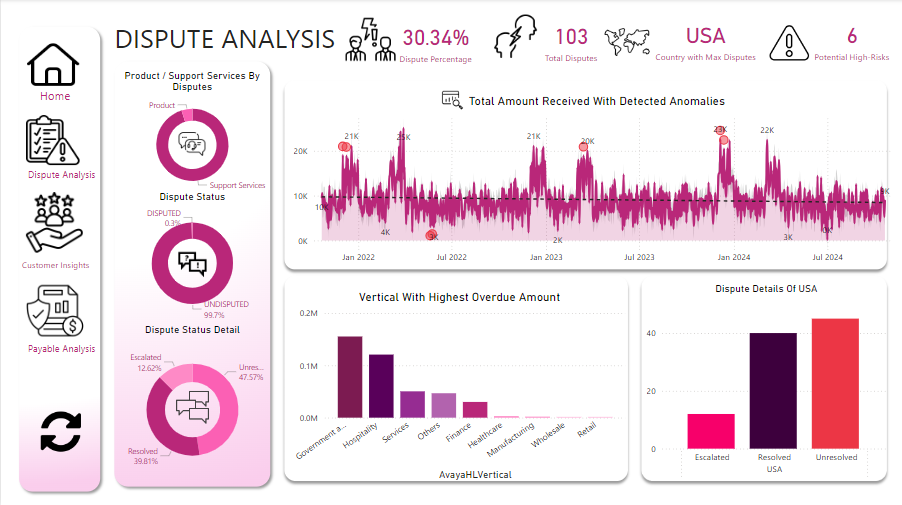

Layout of this report page (visuals, bound fields, positions):
{"tool":"powerbi","page":{"name":"Dispute Analysis","canvas":[1280,720],"ordinal":1},"visuals":[{"type":"donutChart","title":"Dispute Status","fields":{"Category":["AR.Dispute Status"],"Y":["CountNonNull(AR.Dispute Status)"]},"box":[162.8,271.9,216.5,188.8],"z":0},{"type":"donutChart","title":"Dispute Status Detail","fields":{"Category":["AR.Dispute Status Detail"],"Y":["CountNonNull(AR.Dispute Status Detail)"]},"box":[162.8,460.7,230.4,226.9],"z":1000},{"type":"lineChart","title":"Total Amount Received With Detected Anomalies","fields":{"Y":["Sum(AR_cashflow_forecasting_dataset.Amount Received)"],"Category":["AR_cashflow_forecasting_dataset.Invoice Date"]},"box":[409.6,134.6,870.2,249.4],"z":2000},{"type":"card","fields":{"Values":["CountNonNull(AR.Dispute Status)"]},"box":[729.2,0,159.4,117.8],"z":3000},{"type":"card","fields":{"Values":["AR.Country with Max Disputes"]},"box":[900.7,0,197.5,114.3],"z":4000},{"type":"clusteredColumnChart","title":"Dispute Details Of USA","fields":{"Category":["AR.Country","AR.Dispute Status Detail"],"Y":["CountNonNull(AR.Dispute Status Detail)"]},"box":[909.3,401.8,349.9,285.8],"z":5000},{"type":"card","fields":{"Values":["Sum(AR.High-Risk)"]},"box":[1132.8,0,147.2,114.3],"z":6000},{"type":"donutChart","title":"Product / Support Services By Disputes","fields":{"Category":["AR.Product / Support Services"],"Y":["CountNonNull(AR.Product / Support Services)"]},"box":[162.8,100.5,216.5,180.1],"z":7000},{"type":"card","fields":{"Values":["AR.Dispute Percentage"]},"box":[512.7,0,206.1,121.2],"z":8000},{"type":"clusteredColumnChart","title":"Vertical With Highest Overdue Amount","fields":{"Category":["AR.AvayaHLVertical"],"Y":["Sum(AR.REMAINING AMOUNT USD)"]},"box":[409.6,412.4,480.5,275],"z":9000},{"type":"textbox","box":[6.7,120.9,139.4,37],"z":14000},{"type":"textbox","box":[15.1,235.2,141.1,38.6],"z":15000},{"type":"textbox","box":[6.7,362.8,141.1,50.4],"z":16000},{"type":"textbox","box":[15.1,482.1,141.1,40.3],"z":17000},{"type":"image","box":[45.4,579.5,79,67.2],"z":18000},{"type":"textbox","box":[155.9,24.2,351.6,62.4],"z":19000},{"type":"image","box":[230.4,549.1,95.3,62.4],"z":20000},{"type":"image","box":[242.5,351.6,57.2,50.2],"z":21000},{"type":"image","box":[237.3,181.9,67.6,48.5],"z":22000},{"type":"image","box":[616.6,121.2,46.8,43.3],"z":23000},{"type":"image","box":[483.2,12.1,81.4,88.3],"z":24000},{"type":"image","box":[680.7,12.1,98.7,79.7],"z":25000},{"type":"image","box":[1084.3,24.2,65.8,76.2],"z":26000},{"type":"image","box":[850.4,17.3,74.5,88.3],"z":27000},{"type":"actionButton","box":[37,60.5,73.9,63.8],"z":27001},{"type":"actionButton","box":[35.3,164.6,75.6,70.6],"z":27002},{"type":"actionButton","box":[31.9,273.8,85.7,85.7],"z":27003},{"type":"actionButton","box":[35.3,401.5,82.3,80.6],"z":27004}]}

Visuals, with their boxes on the page's 1280x720 design canvas (x1, y1, x2, y2). These are canvas units, not pixel positions in the 902x505 screenshot, which may show the page scaled, cropped or inside an application window:
"Dispute Status" donutChart: [left=163, top=272, right=379, bottom=461]
"Dispute Status Detail" donutChart: [left=163, top=461, right=393, bottom=688]
"Total Amount Received With Detected Anomalies" lineChart: [left=410, top=135, right=1280, bottom=384]
card - CountNonNull(AR.Dispute Status): [left=729, top=0, right=889, bottom=118]
card - AR.Country with Max Disputes: [left=901, top=0, right=1098, bottom=114]
"Dispute Details Of USA" clusteredColumnChart: [left=909, top=402, right=1259, bottom=688]
card - Sum(AR.High-Risk): [left=1133, top=0, right=1280, bottom=114]
"Product / Support Services By Disputes" donutChart: [left=163, top=100, right=379, bottom=281]
card - AR.Dispute Percentage: [left=513, top=0, right=719, bottom=121]
"Vertical With Highest Overdue Amount" clusteredColumnChart: [left=410, top=412, right=890, bottom=687]
textbox: [left=7, top=121, right=146, bottom=158]
textbox: [left=15, top=235, right=156, bottom=274]
textbox: [left=7, top=363, right=148, bottom=413]
textbox: [left=15, top=482, right=156, bottom=522]
image: [left=45, top=580, right=124, bottom=647]
textbox: [left=156, top=24, right=508, bottom=87]
image: [left=230, top=549, right=326, bottom=612]
image: [left=242, top=352, right=300, bottom=402]
image: [left=237, top=182, right=305, bottom=230]
image: [left=617, top=121, right=663, bottom=164]
image: [left=483, top=12, right=565, bottom=100]
image: [left=681, top=12, right=779, bottom=92]
image: [left=1084, top=24, right=1150, bottom=100]
image: [left=850, top=17, right=925, bottom=106]
actionButton: [left=37, top=60, right=111, bottom=124]
actionButton: [left=35, top=165, right=111, bottom=235]
actionButton: [left=32, top=274, right=118, bottom=360]
actionButton: [left=35, top=402, right=118, bottom=482]
